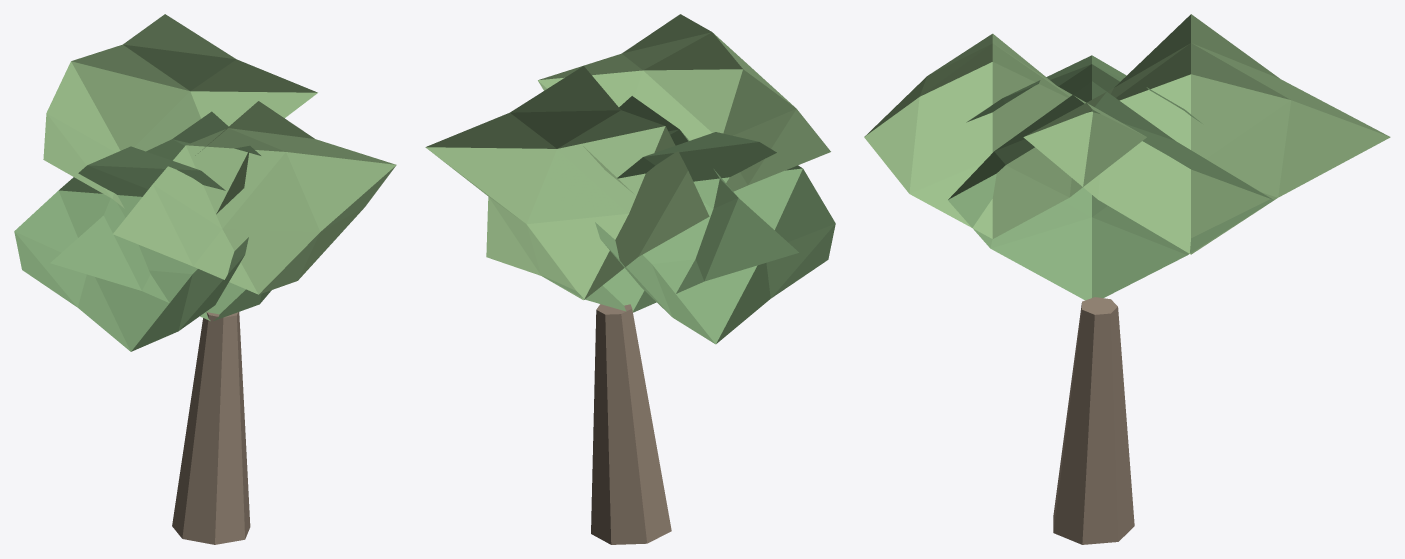
File: broadleaf_v15.glb
3 renders of one model, left to right at view 1: azimuth 30°, elevation 25°; view 2: azimuth 150°, elevation 25°; view 3: azimuth 270°, elevation 25°, orthographic. The views are drawn at different scales.
Parts seen in each view (by area): view 1: lod0; view 2: lod0; view 3: lod0.
Boxes of the visible parts, x1,y1,x2,y2 form: lod0: [14, 14, 396, 544]; lod0: [425, 14, 835, 544]; lod0: [864, 14, 1390, 544].
Size of what is drawn, in the model's own units: 3.54 by 4.77 by 4.44.
